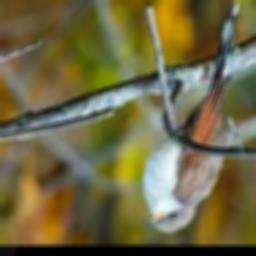Cuckoo: (143, 1, 238, 233)
